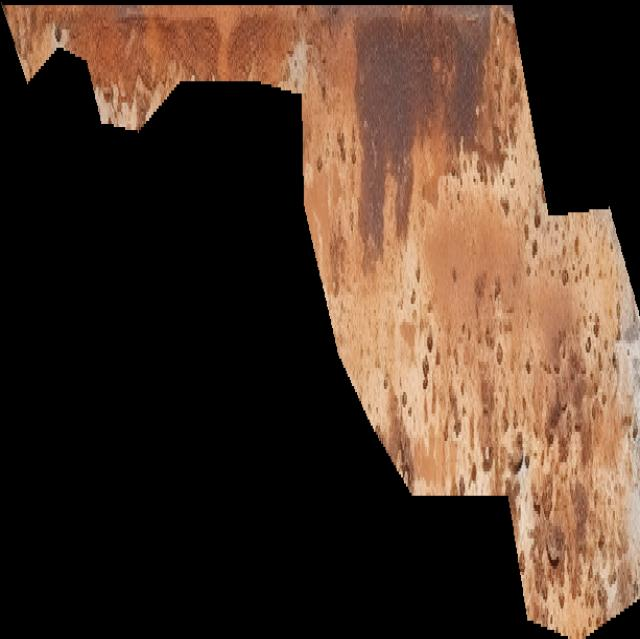Uniform Corrosion: (1, 1, 640, 639)
